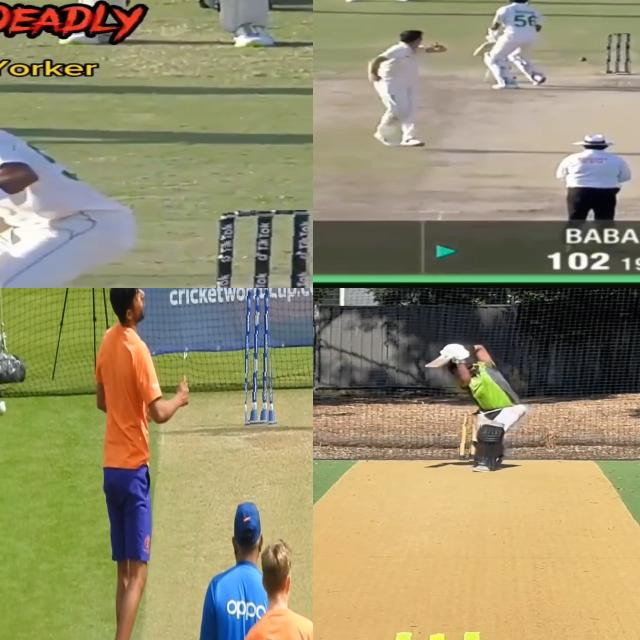Cricket ball: (0, 398, 8, 418), (580, 56, 588, 62)
Stumps: (215, 210, 313, 288), (245, 288, 276, 428), (606, 34, 632, 76), (460, 414, 482, 463)
